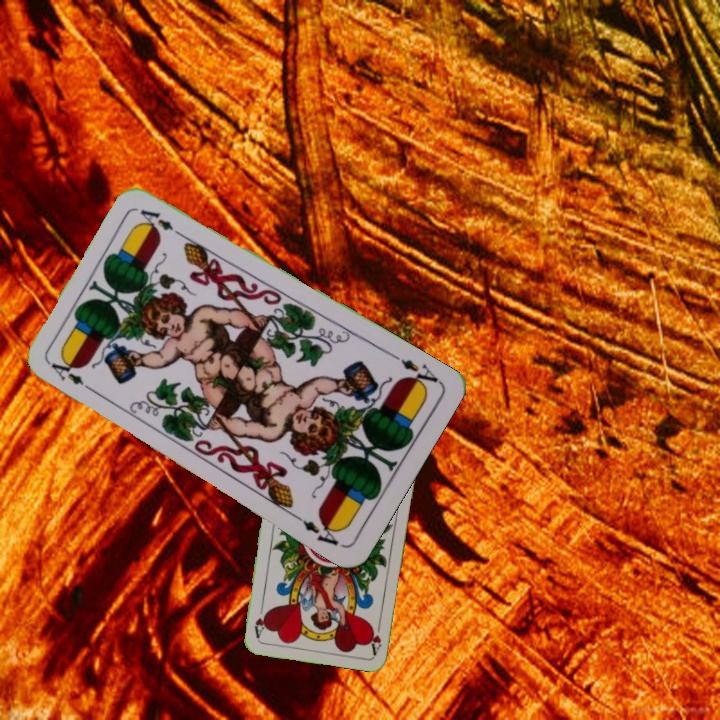EA: (388, 349, 443, 392), (47, 359, 99, 396)
HA: (367, 616, 384, 656)
